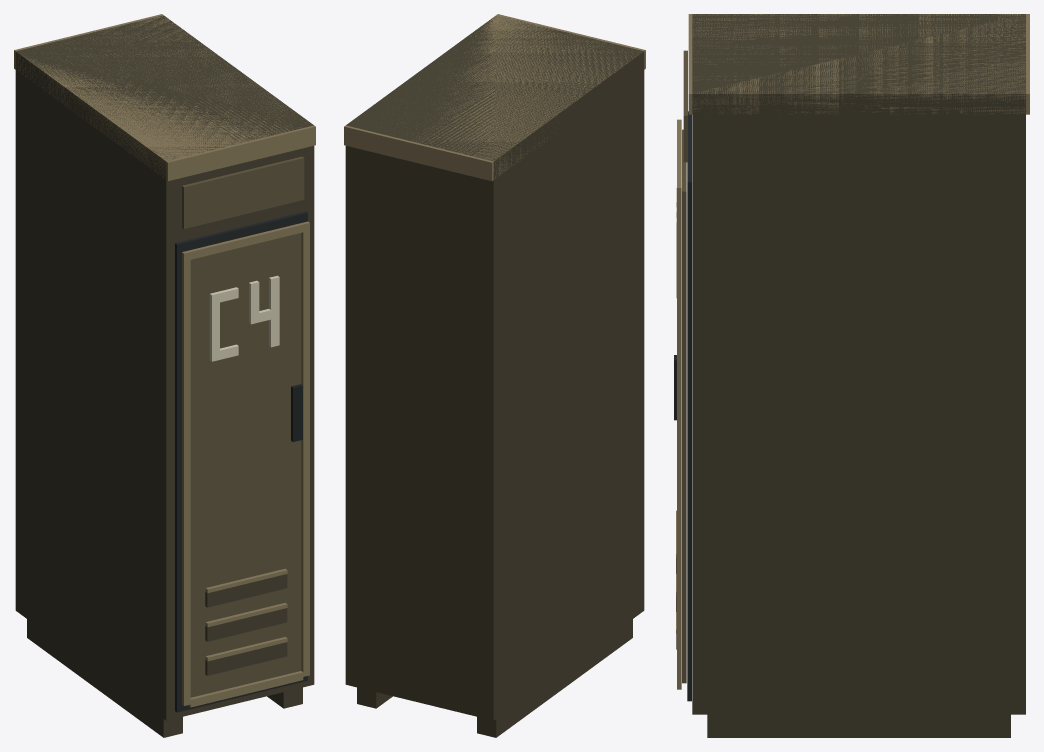
Rendered from CMU3DBombSuitCloset.glb.
The picture shows the model from 3 angles, left to right: view 1: azimuth 30°, elevation 25°; view 2: azimuth 150°, elevation 25°; view 3: azimuth 270°, elevation 25°; orthographic projection. The views are drawn at different scales.
Parts seen in each view (by area): view 1: closet shell, door face, top cap, door edge molding (×4), header inset, door recess, lower ventilation recess (×3), closet foot, vent lip (×3), pale bomb-suit marking (×2), vertical door latch; view 2: closet shell, top cap, closet foot; view 3: closet shell, top cap, closet foot, door recess, door face, door edge molding.
Boxes of the visible parts, x1=… form: closet shell: x1=15, y1=15, x2=314, y2=720; door face: x1=190, y1=233, x2=301, y2=697; top cap: x1=14, y1=14, x2=315, y2=181; door edge molding (×4): x1=182, y1=221, x2=309, y2=707; header inset: x1=182, y1=156, x2=304, y2=228; door recess: x1=175, y1=211, x2=307, y2=712; lower ventilation recess (×3): x1=205, y1=574, x2=287, y2=675; closet foot: x1=27, y1=619, x2=182, y2=737; vent lip (×3): x1=205, y1=568, x2=287, y2=661; pale bomb-suit marking (×2): x1=209, y1=275, x2=279, y2=358; vertical door latch: x1=291, y1=384, x2=302, y2=441; closet shell: x1=345, y1=16, x2=644, y2=720; top cap: x1=344, y1=14, x2=645, y2=181; closet foot: x1=477, y1=619, x2=632, y2=737; closet shell: x1=692, y1=14, x2=1025, y2=714; top cap: x1=688, y1=14, x2=1029, y2=114; closet foot: x1=707, y1=714, x2=1010, y2=737; door recess: x1=687, y1=111, x2=691, y2=701; door face: x1=682, y1=129, x2=686, y2=683; door edge molding: x1=677, y1=184, x2=681, y2=689.
Bounding box in the file's own units: 0.5 × 1.88 × 0.938.
